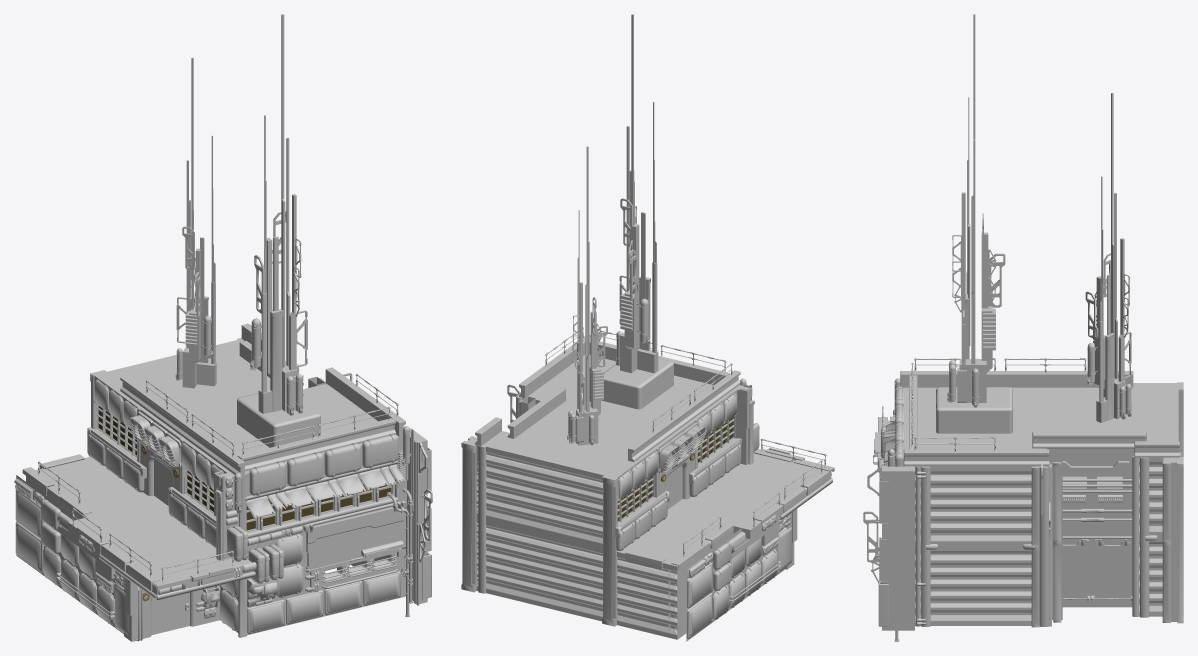
Rendered from Building_03.fbx.
The picture shows the model from 3 angles, left to right: view 1: azimuth 30°, elevation 25°; view 2: azimuth 150°, elevation 25°; view 3: azimuth 270°, elevation 25°; orthographic projection. The views are drawn at different scales.
Parts seen in each view (by area): view 1: Floor.002, Floor.001, Antenna_01.001, Panel_51.000, Antenna_01.002, Roof_Block, Trim.058, Trim.054, Wall_04_Window.005, Wall_04_Window.004, Trim.055, Wall_05_Window.012 (+28 smaller); view 2: Floor.002, Floor.001, Wall_09.025, Wall_09.028, Wall_09.024, Wall_09.026, Antenna_01.001, Wall_09.029, Antenna_01.002, Roof_Block, Trim_02.047, Trim_02.048 (+16 smaller); view 3: Floor.002, Wall_09.019, Wall_09.017, Antenna_01.001, Antenna_01.002, Wall_01.023, Roof_Block, Trim.055, Trim.054, Wall_09.018, Wall_09.016, Cube.018 (+31 smaller).
Part boxes in pixels (box(x1,y1,x2,y2)): Floor.002: box(94, 339, 377, 476); Floor.001: box(35, 457, 218, 573); Antenna_01.001: box(258, 14, 298, 413); Panel_51.000: box(306, 506, 403, 592); Antenna_01.002: box(182, 57, 216, 388); Roof_Block: box(237, 393, 320, 447); Trim.058: box(237, 418, 396, 471); Trim.054: box(120, 376, 244, 476); Wall_04_Window.005: box(246, 464, 319, 553); Wall_04_Window.004: box(319, 445, 397, 524); Trim.055: box(325, 367, 405, 436); Wall_05_Window.012: box(320, 552, 397, 617); Floor.002: box(482, 354, 741, 484); Floor.001: box(486, 462, 802, 575); Wall_09.025: box(537, 532, 602, 621); Wall_09.028: box(537, 459, 603, 548); Wall_09.024: box(617, 552, 677, 639); Wall_09.026: box(476, 518, 538, 605); Antenna_01.001: box(620, 14, 658, 373); Wall_09.029: box(476, 446, 538, 532); Antenna_01.002: box(575, 146, 603, 445); Roof_Block: box(601, 358, 673, 409); Trim_02.047: box(461, 441, 477, 592); Trim_02.048: box(602, 475, 617, 626); Floor.002: box(904, 383, 1178, 476); Wall_09.019: box(915, 466, 1002, 546); Wall_09.017: box(915, 546, 1002, 625); Antenna_01.001: box(957, 14, 995, 402); Antenna_01.002: box(1093, 92, 1126, 422); Wall_01.023: box(1062, 461, 1129, 533); Roof_Block: box(936, 387, 1012, 433); Trim.055: box(903, 449, 1049, 466); Trim.054: box(900, 371, 1133, 387); Wall_09.018: box(1002, 466, 1031, 546); Wall_09.016: box(1002, 546, 1031, 625); Cube.018: box(1095, 541, 1130, 604).
Bounding box in the file's own units: 14.41 × 29.37 × 14.56.
